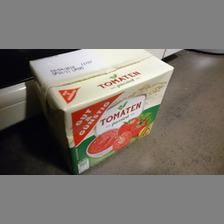tomato_sauce: (28, 49, 174, 174)
